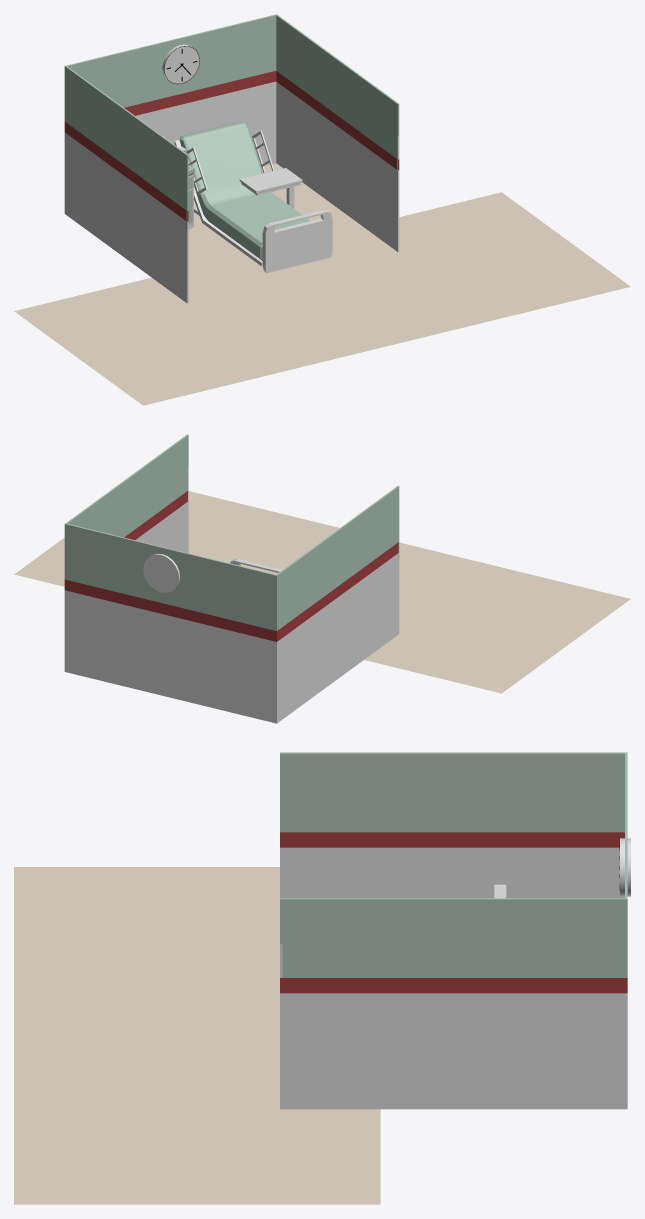
File: Scene2Updated.fbx
3 views of the same model, one above another, from view 1: azimuth 30°, elevation 25°; view 2: azimuth 150°, elevation 25°; view 3: azimuth 270°, elevation 25° (orthographic). The views are drawn at different scales.
Visible parts, largest first — view 1: ground, polySurface17, pCube10, polySurface15, polySurface16, pCylinder4, pCube11; view 2: polySurface17, ground, pCylinder4; view 3: polySurface17, ground.
Boxes of the visible parts, box(x1,y1,x2,y2) form: ground: box(14, 163, 630, 405); polySurface17: box(64, 14, 399, 303); pCube10: box(179, 121, 310, 260); polySurface15: box(262, 210, 332, 272); polySurface16: box(239, 168, 302, 208); pCylinder4: box(162, 44, 199, 84); pCube11: box(174, 140, 262, 266); polySurface17: box(64, 434, 399, 723); ground: box(14, 491, 630, 693); pCylinder4: box(143, 553, 180, 592); polySurface17: box(280, 752, 627, 1109); ground: box(14, 867, 380, 1204).
Size of the model in its own units: 382 by 111 by 295.
